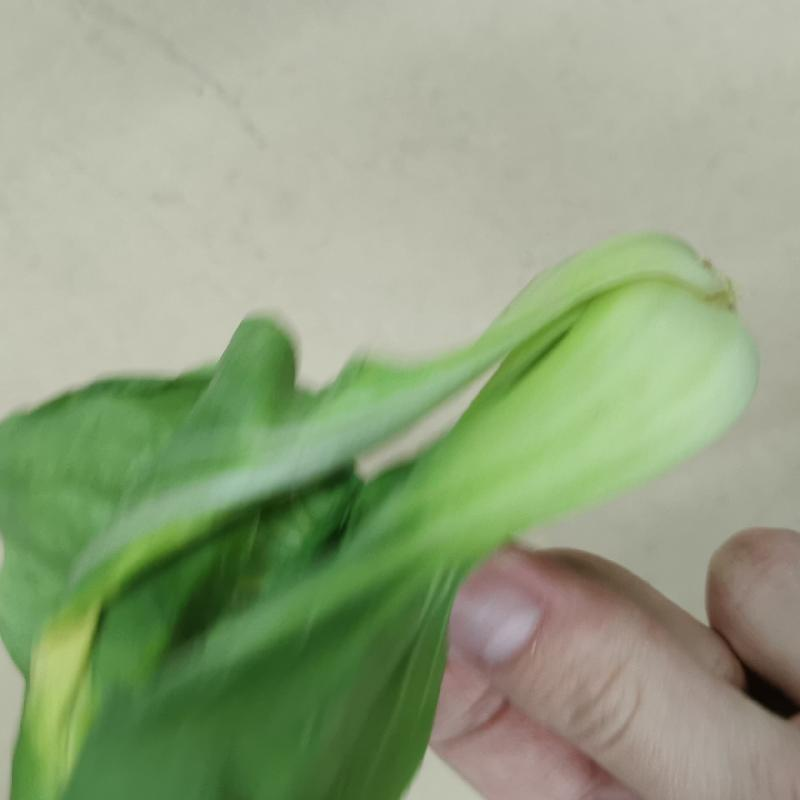green vegatable: (0, 237, 758, 799)
